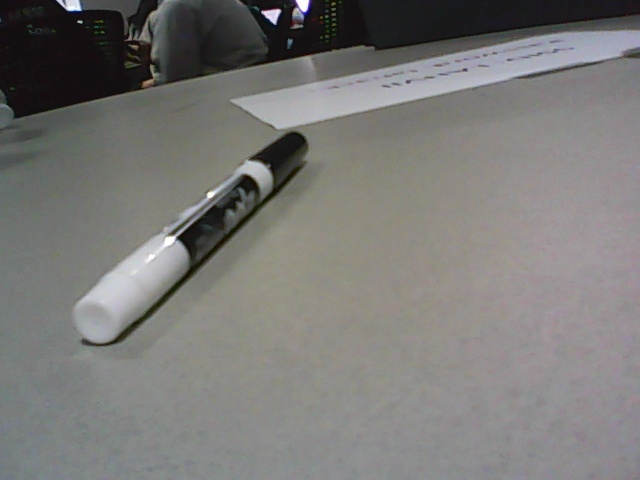marker: (70, 130, 311, 346)
